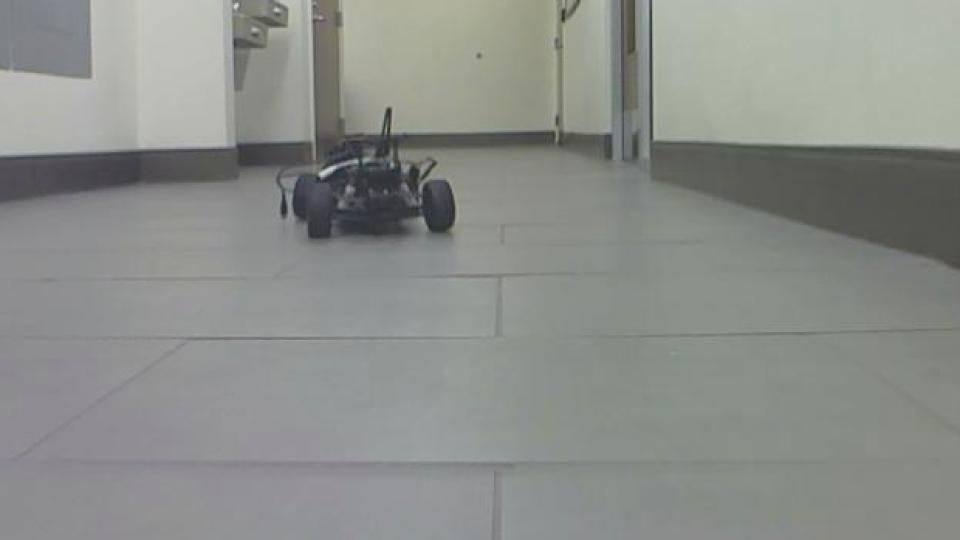car: (274, 104, 460, 242)
